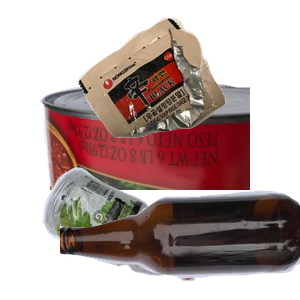glass: (60, 188, 300, 300)
metal: (37, 81, 277, 261)
plastic: (40, 165, 235, 300)
trash: (76, 15, 300, 145)
